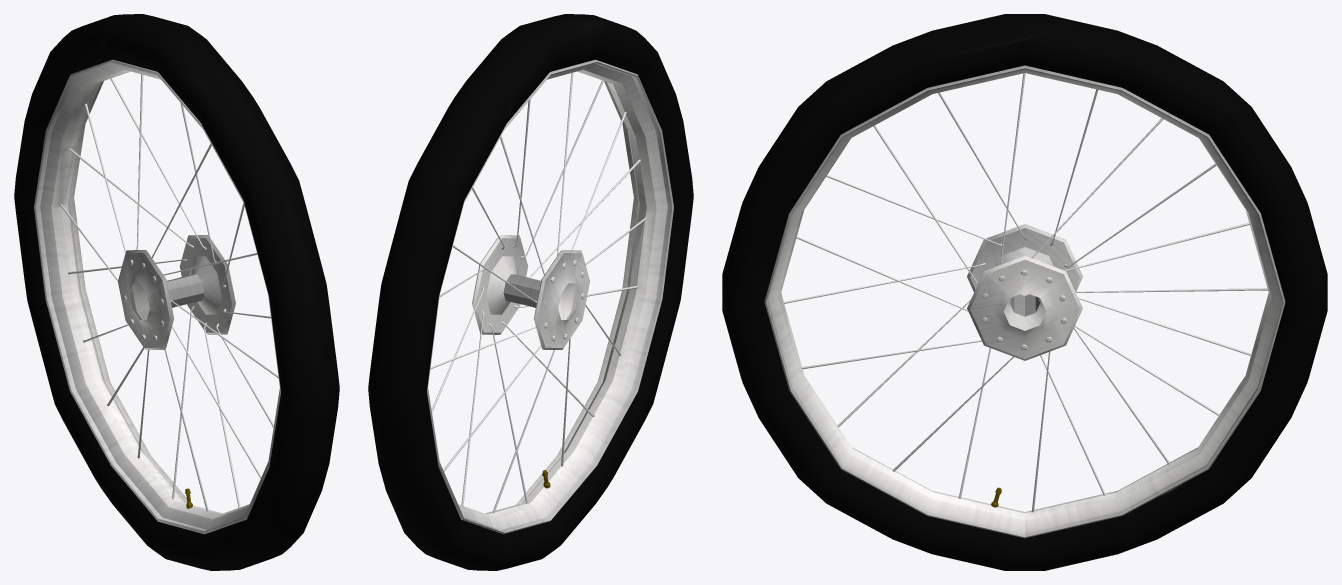
File: teker.fbx
3 renders of one model, left to right at view 1: azimuth 30°, elevation 25°; view 2: azimuth 150°, elevation 25°; view 3: azimuth 270°, elevation 25°, orthographic. The views are drawn at different scales.
Parts seen in each view (by area): view 1: Tyre, Rim, Spokes.001; view 2: Tyre, Rim, Spokes.001; view 3: Tyre, Rim, Spokes.001.
Boxes of the visible parts, x1,y1,x2,y2 form: Tyre: (14, 14, 339, 570); Rim: (34, 59, 280, 534); Spokes.001: (60, 74, 278, 511); Tyre: (368, 14, 693, 570); Rim: (427, 59, 673, 534); Spokes.001: (430, 72, 646, 513); Tyre: (722, 14, 1327, 570); Rim: (764, 65, 1285, 538); Spokes.001: (783, 73, 1268, 512).
Size of the model in its own units: 0.1364 by 0.9101 by 0.9101.
